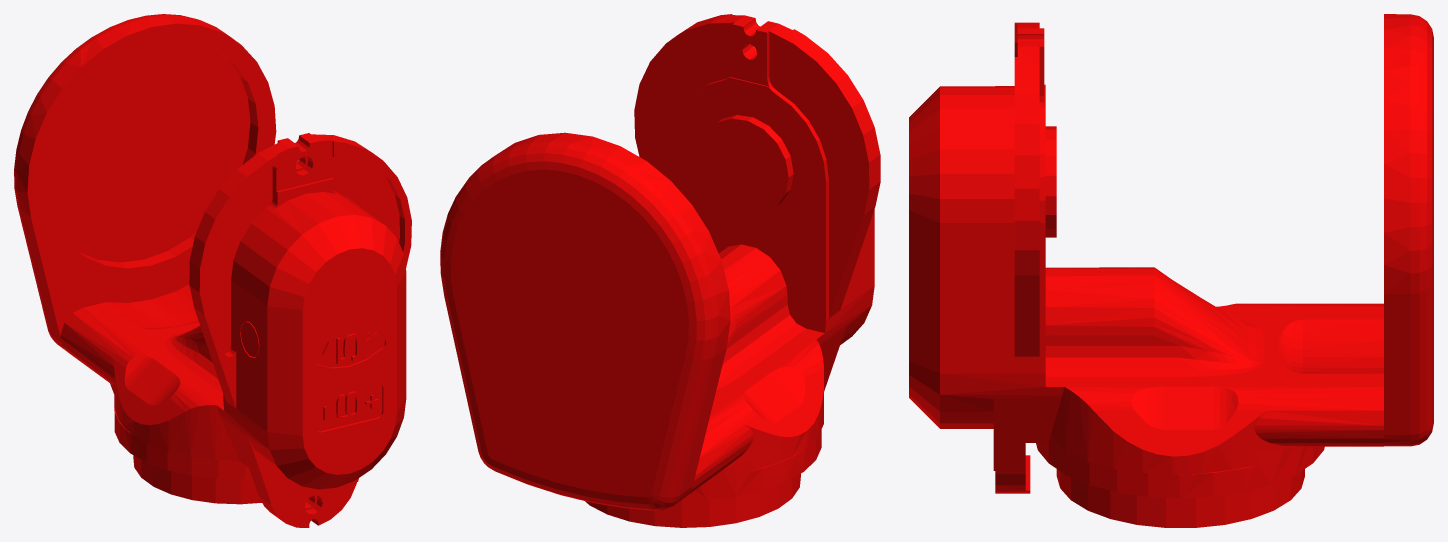
The picture shows the model from 3 angles, left to right: view 1: azimuth 30°, elevation 25°; view 2: azimuth 150°, elevation 25°; view 3: azimuth 270°, elevation 25°; orthographic projection. The views are drawn at different scales.
Visible parts, largest first — view 1: link_5; view 2: link_5; view 3: link_5.
Boxes of the visible parts, x1=… form: link_5: x1=14, y1=14, x2=411, y2=527; link_5: x1=440, y1=14, x2=880, y2=527; link_5: x1=909, y1=14, x2=1433, y2=527.
Size of the model in its own units: 0.2218 by 0.325 by 0.3379.
